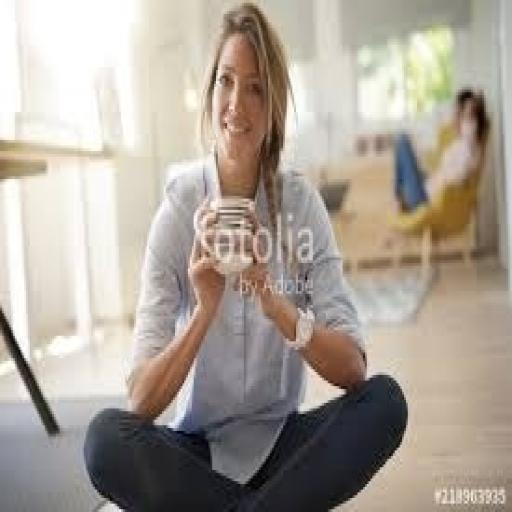drinking: (203, 196, 257, 274)
